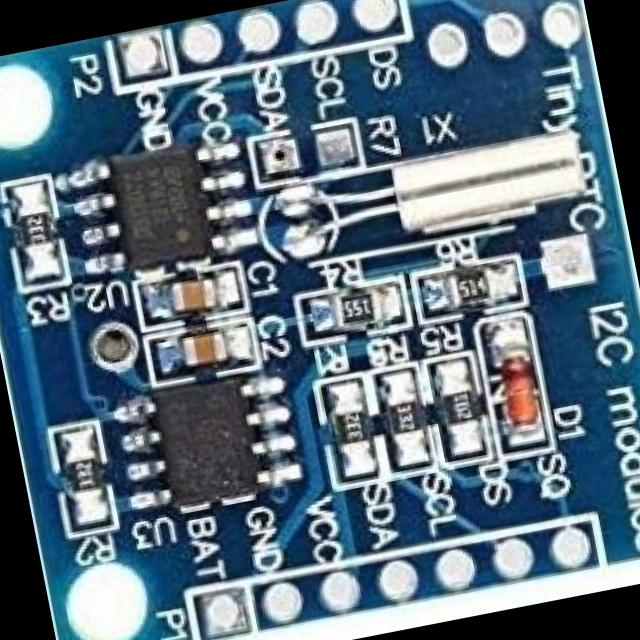IC: (131, 364, 291, 530), (80, 138, 228, 282)
capacitor: (158, 260, 234, 323), (171, 318, 243, 381)
diode: (476, 325, 548, 456)
resistor: (305, 270, 406, 344), (52, 422, 111, 538), (314, 377, 378, 472), (374, 375, 438, 465), (9, 183, 62, 282), (434, 357, 484, 454), (431, 263, 508, 320)
